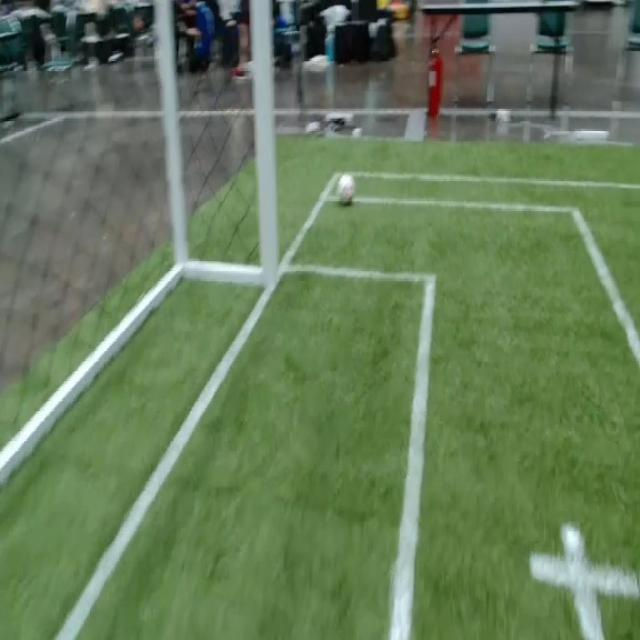ball: (338, 173, 354, 204)
goalpost: (254, 222, 282, 293)
